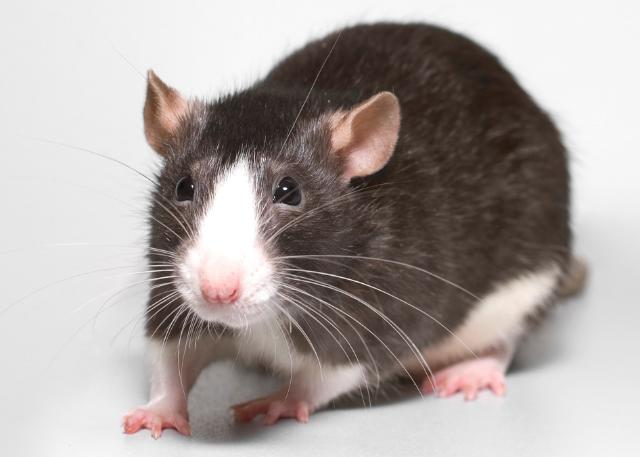rat: (95, 8, 603, 438)
